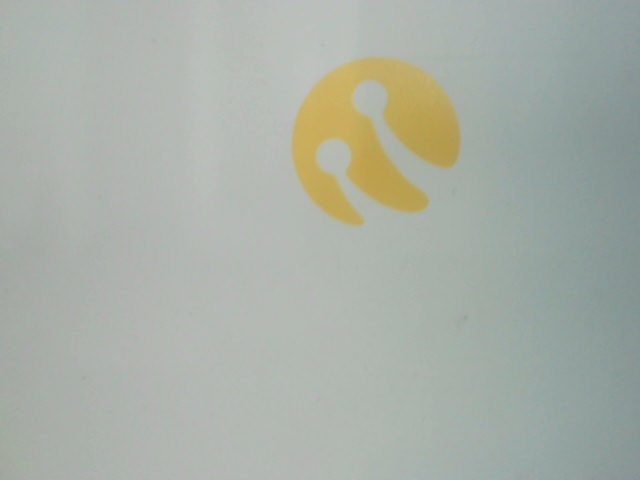AV_H3600Yellow: (269, 46, 478, 237)
